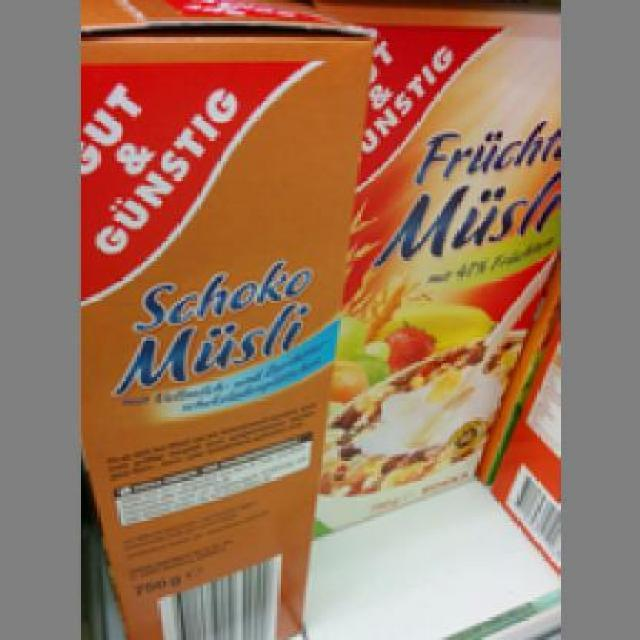Cereal: (80, 22, 369, 638), (311, 2, 560, 532)
